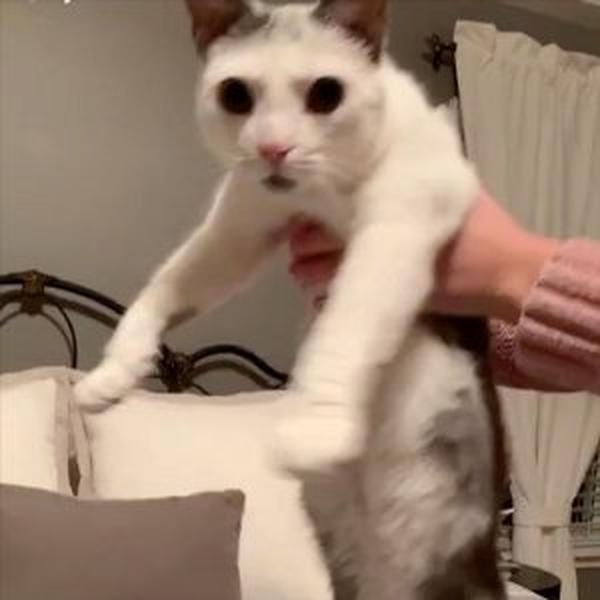michi: (68, 2, 495, 479)
